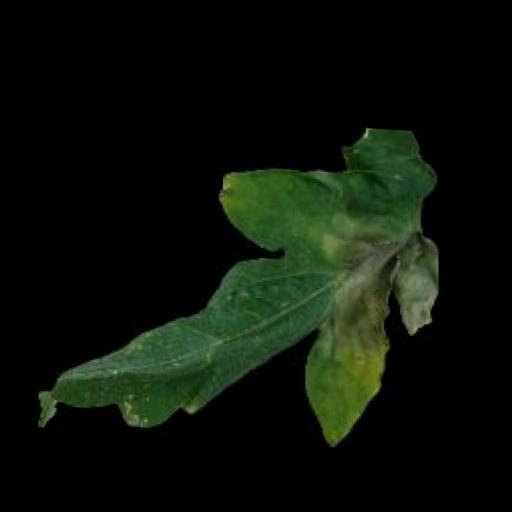Late Blight: (24, 93, 453, 465)
